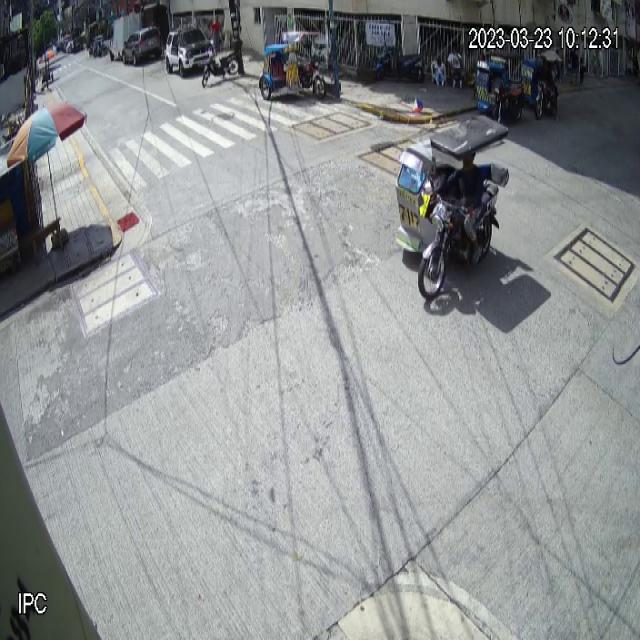Tricycle: (395, 116, 510, 300), (260, 29, 327, 102)
